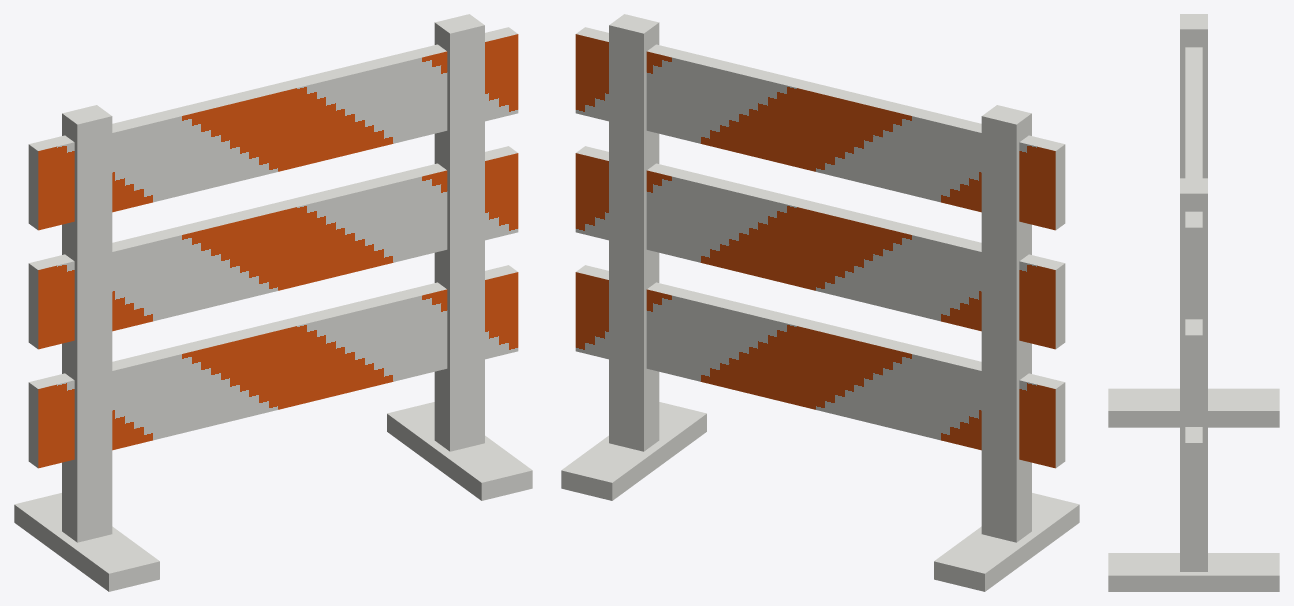
The model's file is workzone_barricade_type3.obj.
3 renders of one model, left to right at view 1: azimuth 30°, elevation 25°; view 2: azimuth 150°, elevation 25°; view 3: azimuth 270°, elevation 25°, orthographic. The views are drawn at different scales.
Parts seen in each view (by area): view 1: workzone_barricade_type3; view 2: workzone_barricade_type3; view 3: workzone_barricade_type3.
Part boxes in pixels (bbox=[...]): workzone_barricade_type3: bbox=[14, 14, 532, 591]; workzone_barricade_type3: bbox=[561, 14, 1079, 591]; workzone_barricade_type3: bbox=[1108, 14, 1279, 591].
Size of the model in its own units: 1.28 by 1.11 by 0.4388.
